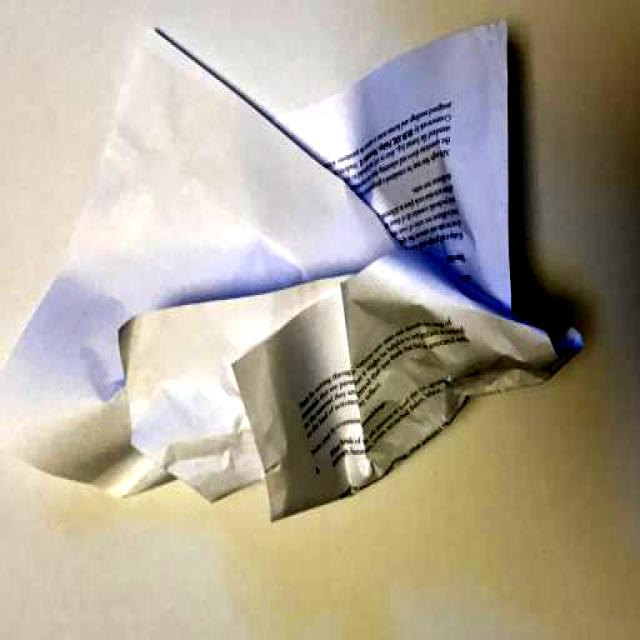Paper: (0, 11, 591, 536)
